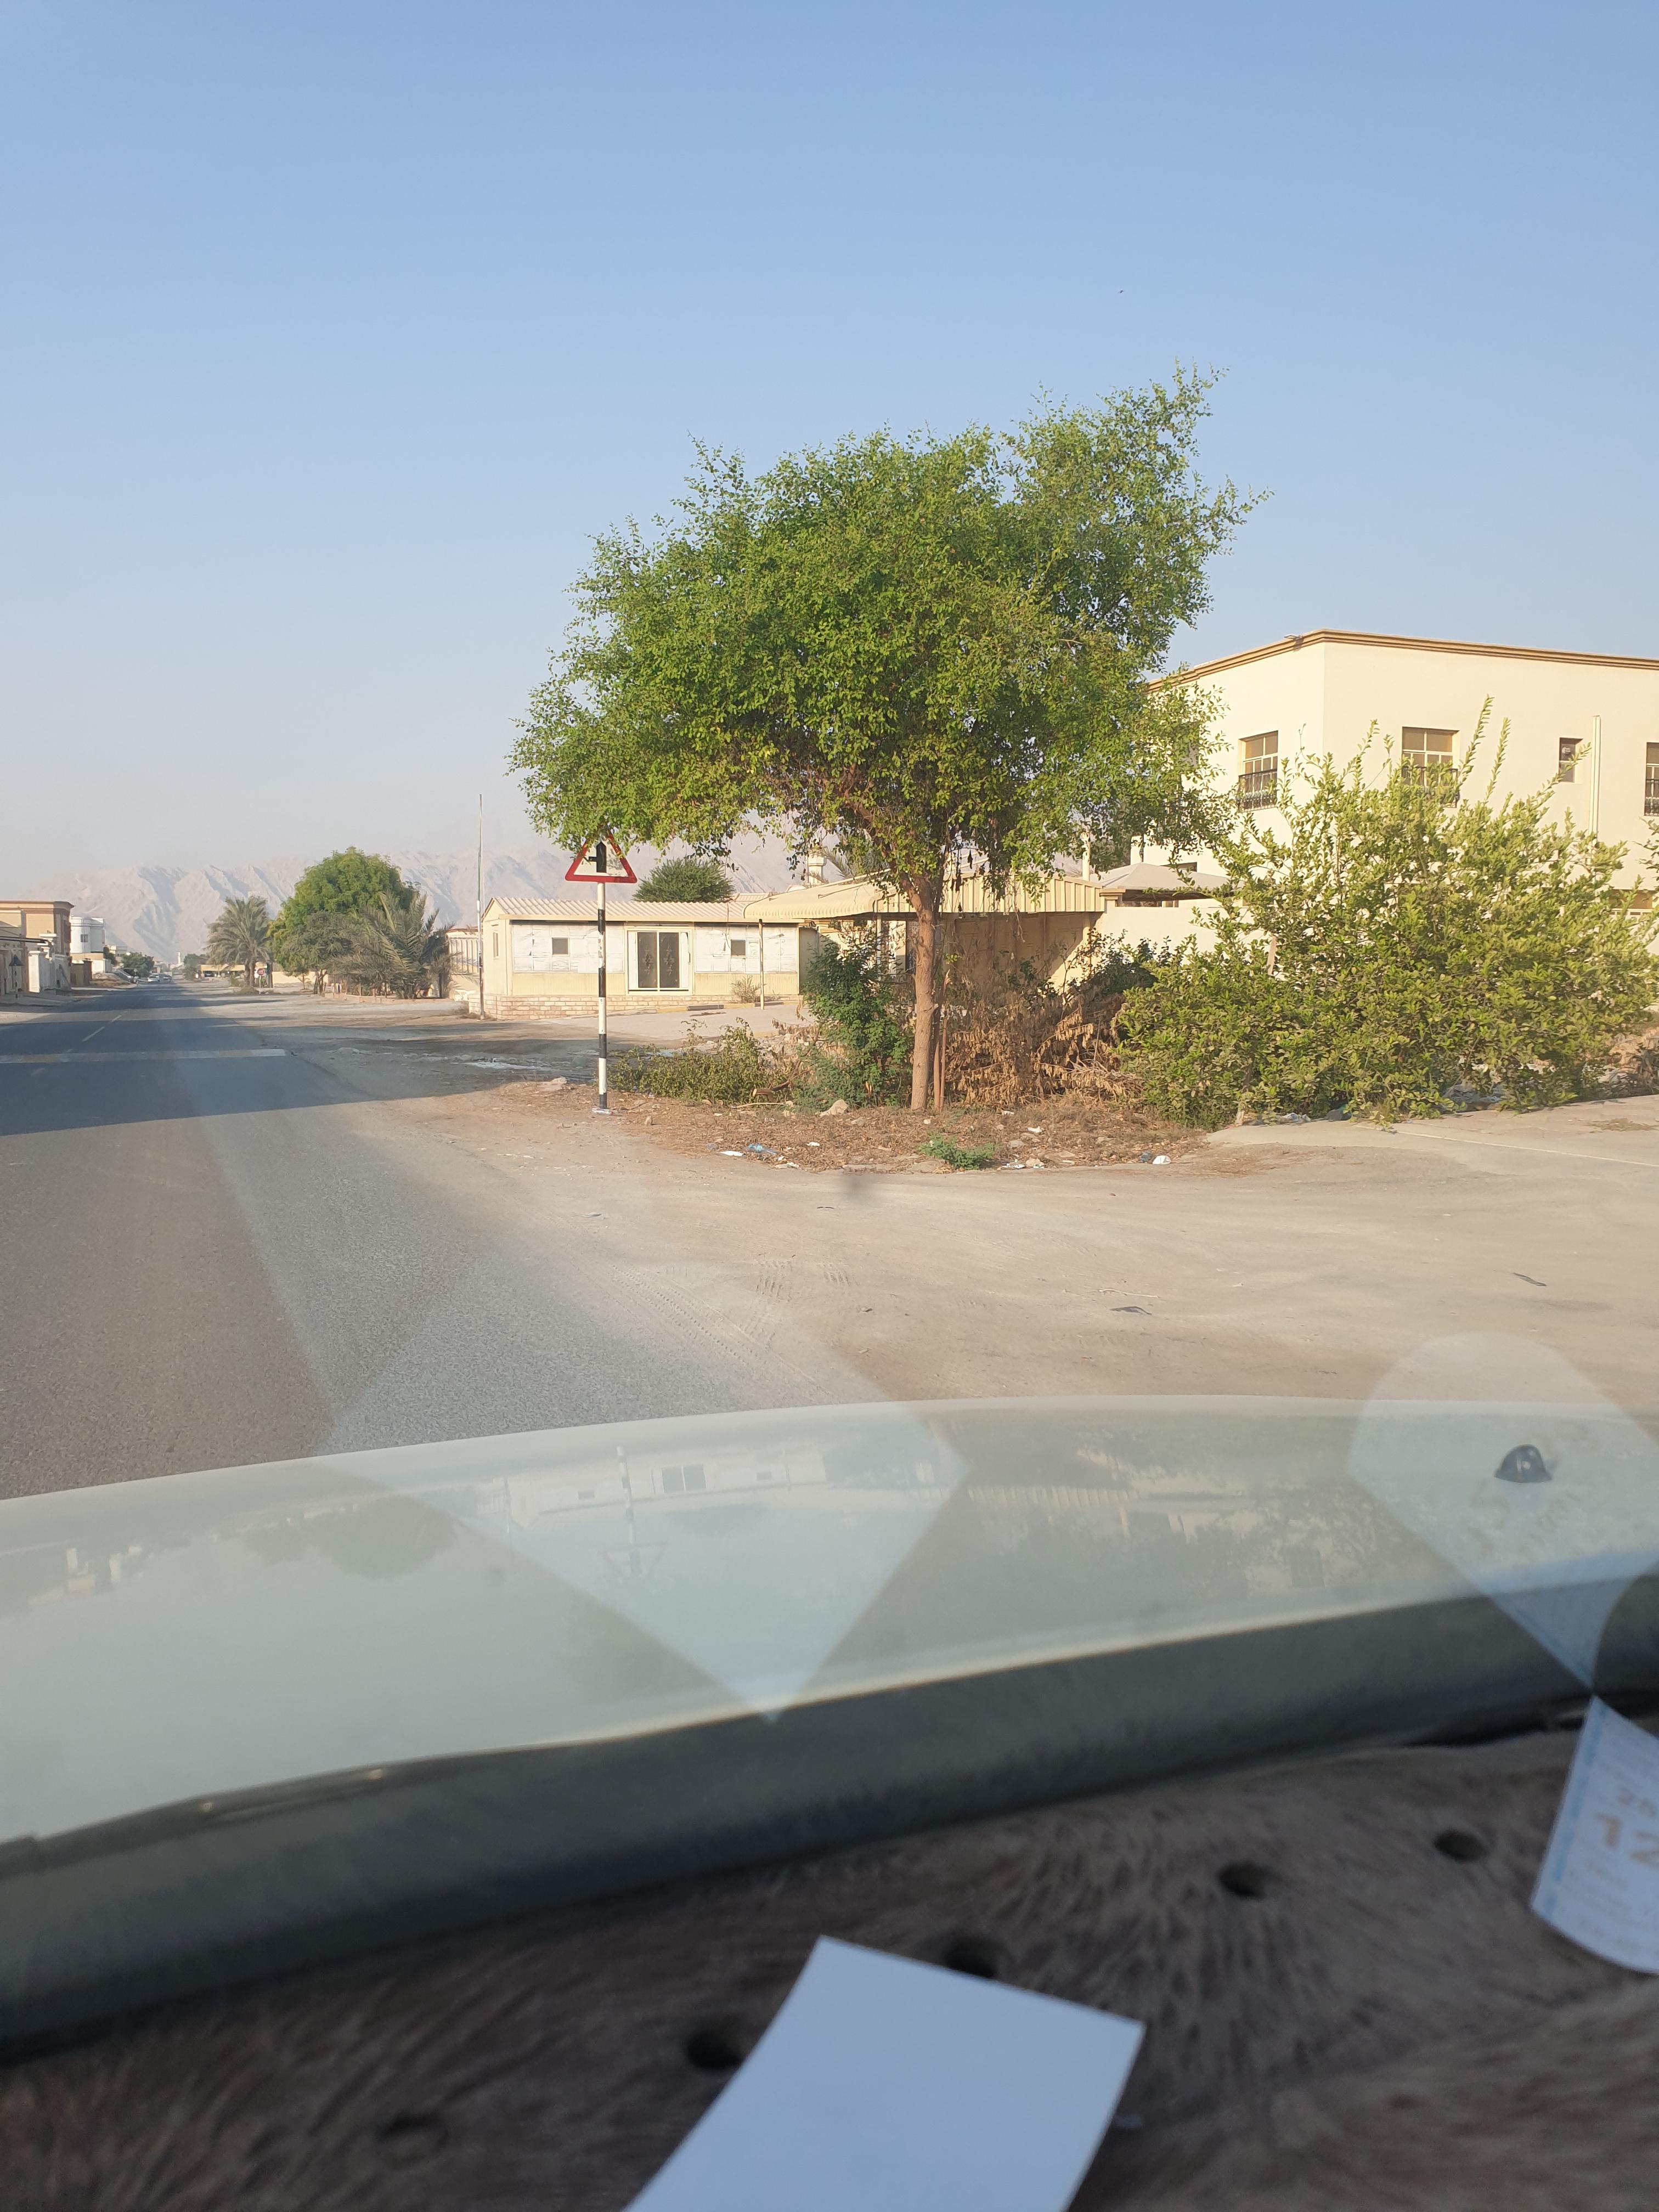fallen_trees: (1032, 1132, 1202, 1181)
